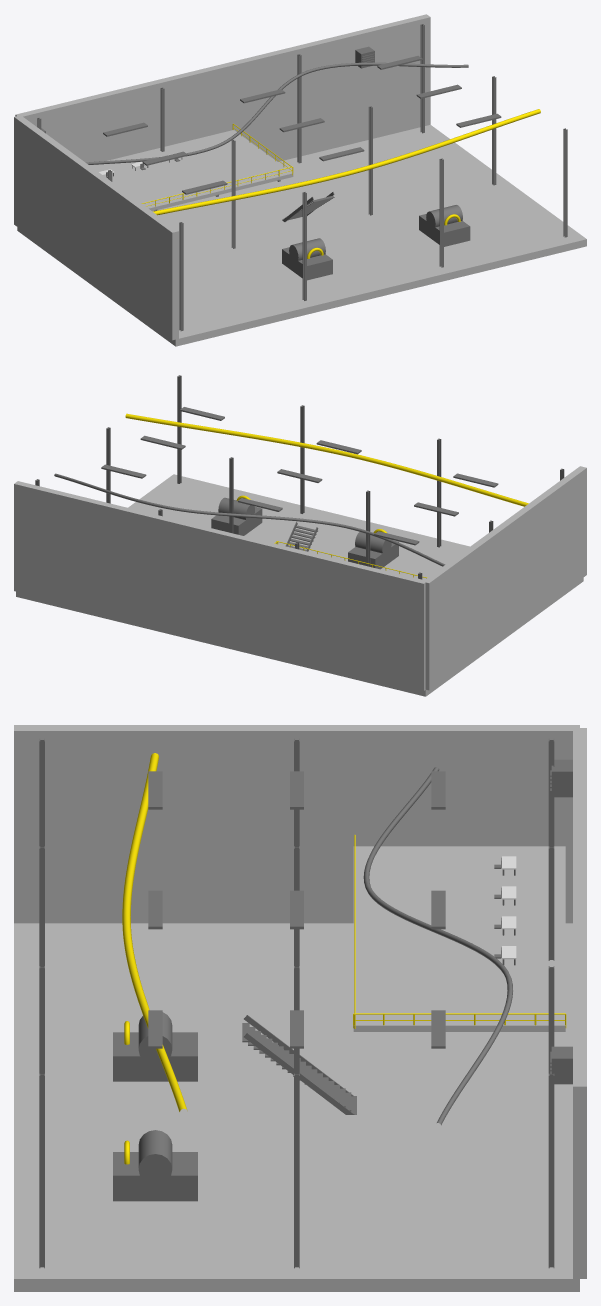
Rendered from mezzazine.gltf.
3 views of the same model, one above another, from view 1: azimuth 30°, elevation 25°; view 2: azimuth 150°, elevation 25°; view 3: azimuth 270°, elevation 25° (orthographic). The views are drawn at different scales.
Size of the model in its own units: 60.55 by 16 by 40.5.
